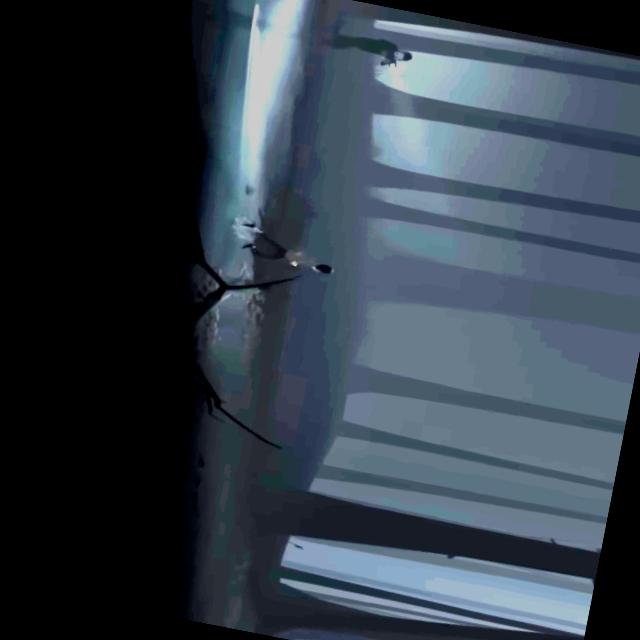boy: (246, 228, 338, 274)
